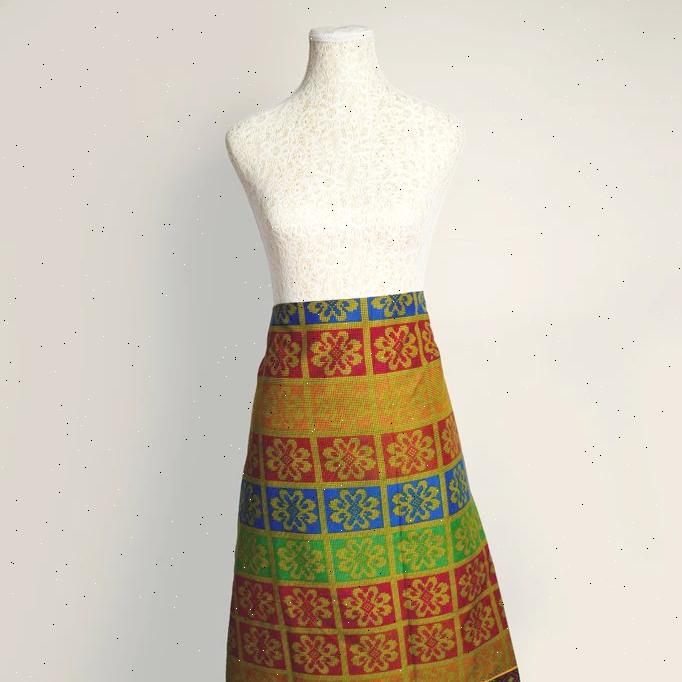malong: (205, 271, 545, 682)
